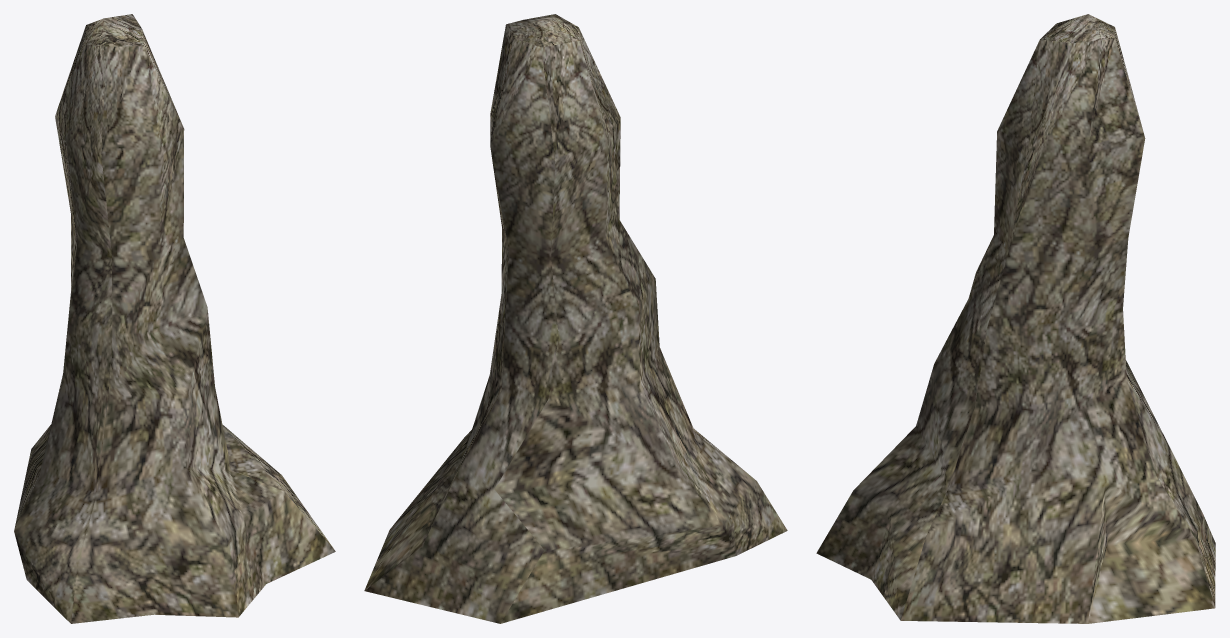
The model's file is general_obj_bigstone01.glb.
3 views of the same model, side by side, from view 1: azimuth 30°, elevation 25°; view 2: azimuth 150°, elevation 25°; view 3: azimuth 270°, elevation 25° (orthographic). The views are drawn at different scales.
Visible parts, largest first — view 1: Sphere01; view 2: Sphere01; view 3: Sphere01.
Part boxes in pixels (box(x1,y1,x2,y2)): Sphere01: box(14, 14, 335, 623); Sphere01: box(364, 14, 787, 623); Sphere01: box(816, 14, 1215, 623).
Size of the model in its own units: 19.08 by 33.9 by 22.83.
Materials: 1 (1 with a texture image).
